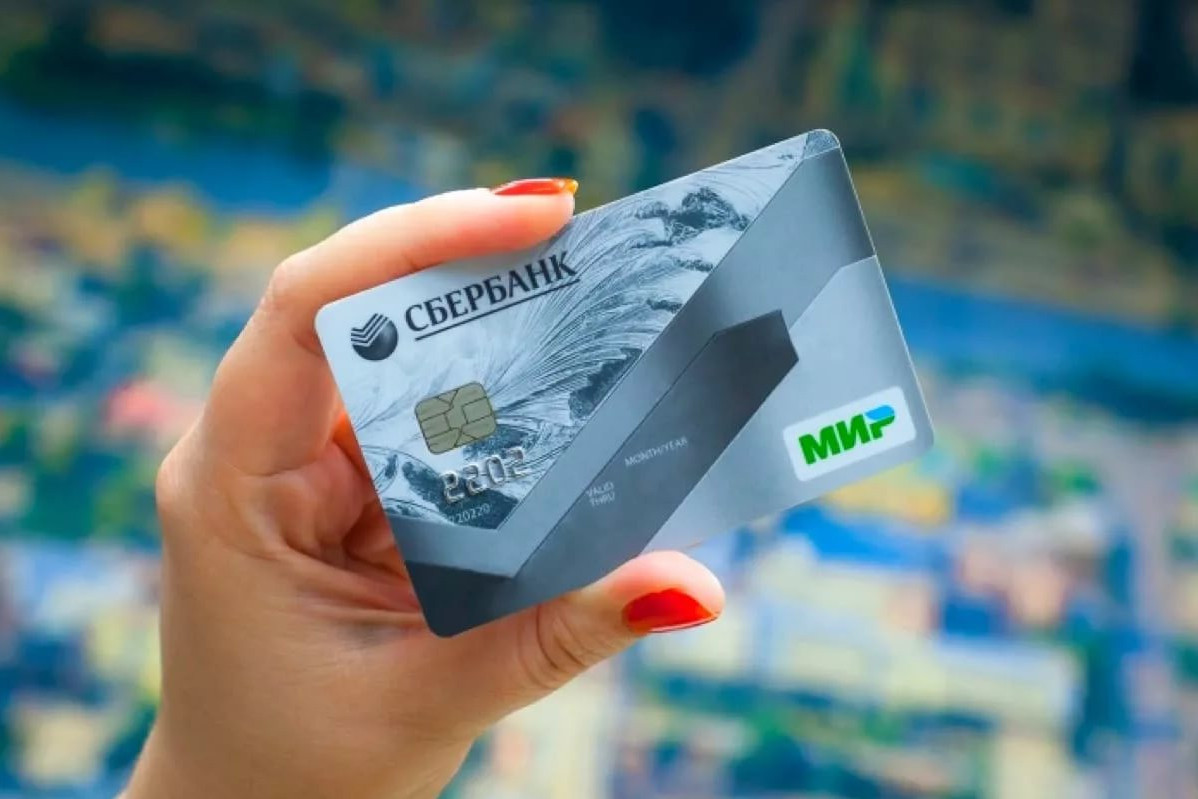card: (309, 127, 938, 642)
